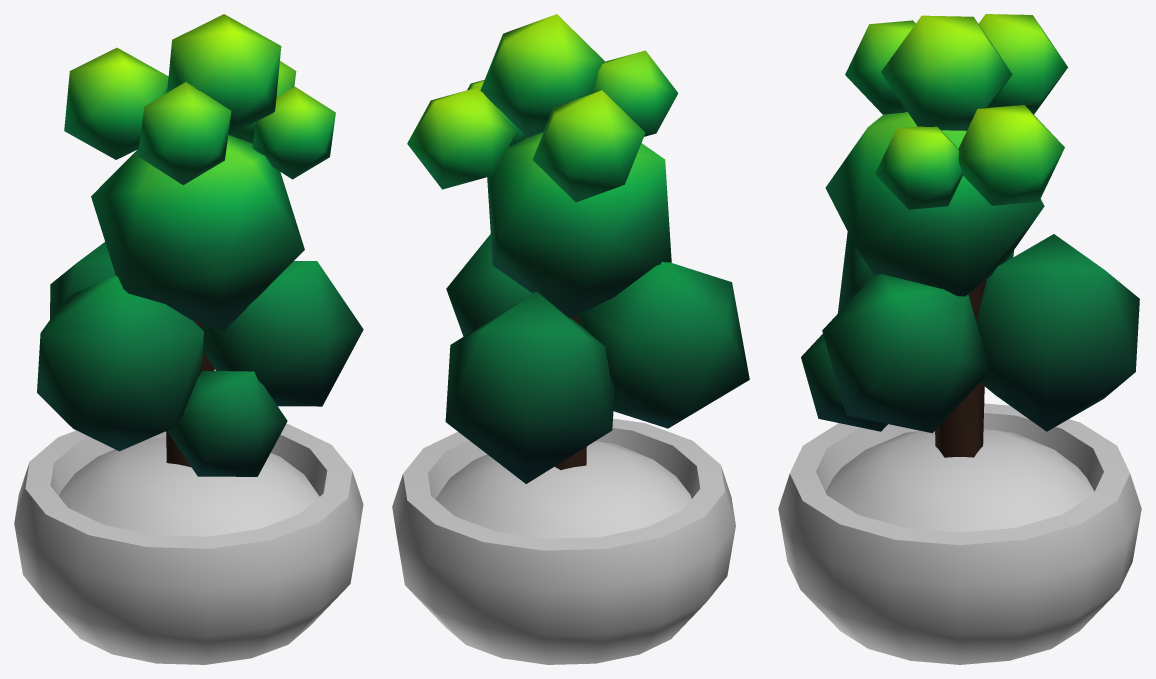
The model's file is Bush_2D.fbx.
3 renders of one model, left to right at view 1: azimuth 30°, elevation 25°; view 2: azimuth 150°, elevation 25°; view 3: azimuth 270°, elevation 25°, orthographic. The views are drawn at different scales.
Parts seen in each view (by area): view 1: Bush_2D; view 2: Bush_2D; view 3: Bush_2D.
Part boxes in pixels (box(x1,y1,x2,y2)): Bush_2D: box(14, 14, 363, 664); Bush_2D: box(392, 14, 749, 664); Bush_2D: box(778, 14, 1141, 664).
Size of the model in its own units: 2.04 by 3.71 by 2.01.
